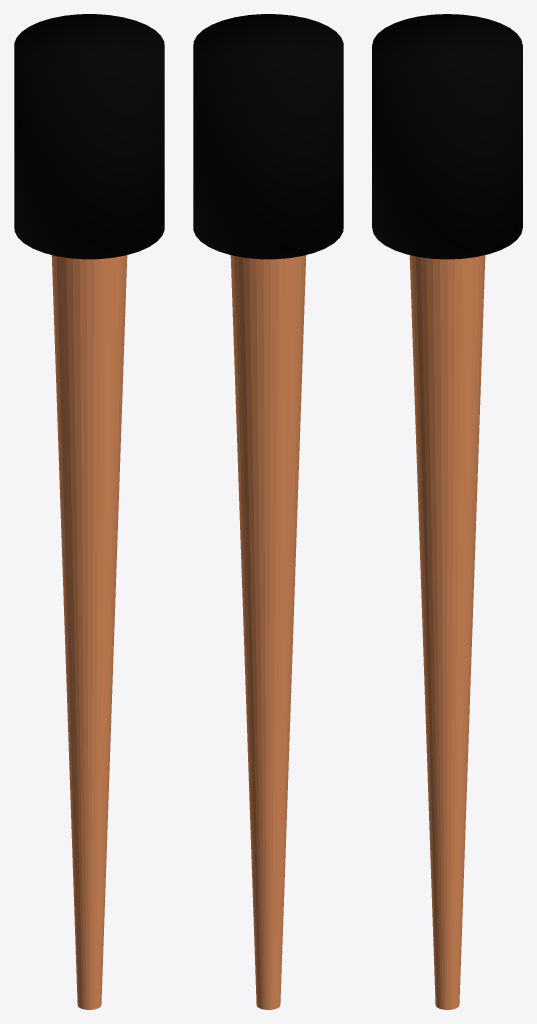
File: torch.fbx
The picture shows the model from 3 angles, left to right: view 1: azimuth 30°, elevation 25°; view 2: azimuth 150°, elevation 25°; view 3: azimuth 270°, elevation 25°; orthographic projection.
Parts seen in each view (by area): view 1: Cylinder, Cylinder.001; view 2: Cylinder, Cylinder.001; view 3: Cylinder, Cylinder.001.
Part boxes in pixels (x1,y1,x2,y2): Cylinder: [51, 255, 127, 1009]; Cylinder.001: [14, 14, 164, 259]; Cylinder: [230, 255, 306, 1009]; Cylinder.001: [193, 14, 343, 259]; Cylinder: [409, 255, 485, 1009]; Cylinder.001: [372, 14, 522, 259].
Size of the model in its own units: 86.07 by 604 by 86.07.
